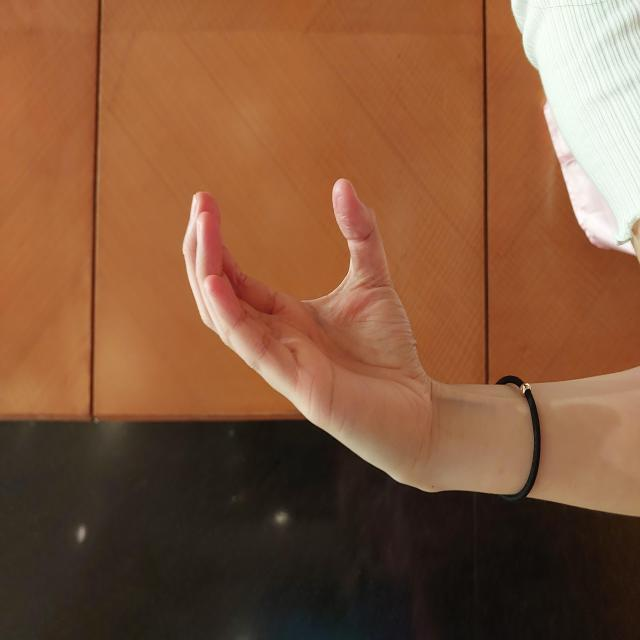C: (224, 181, 464, 432)
